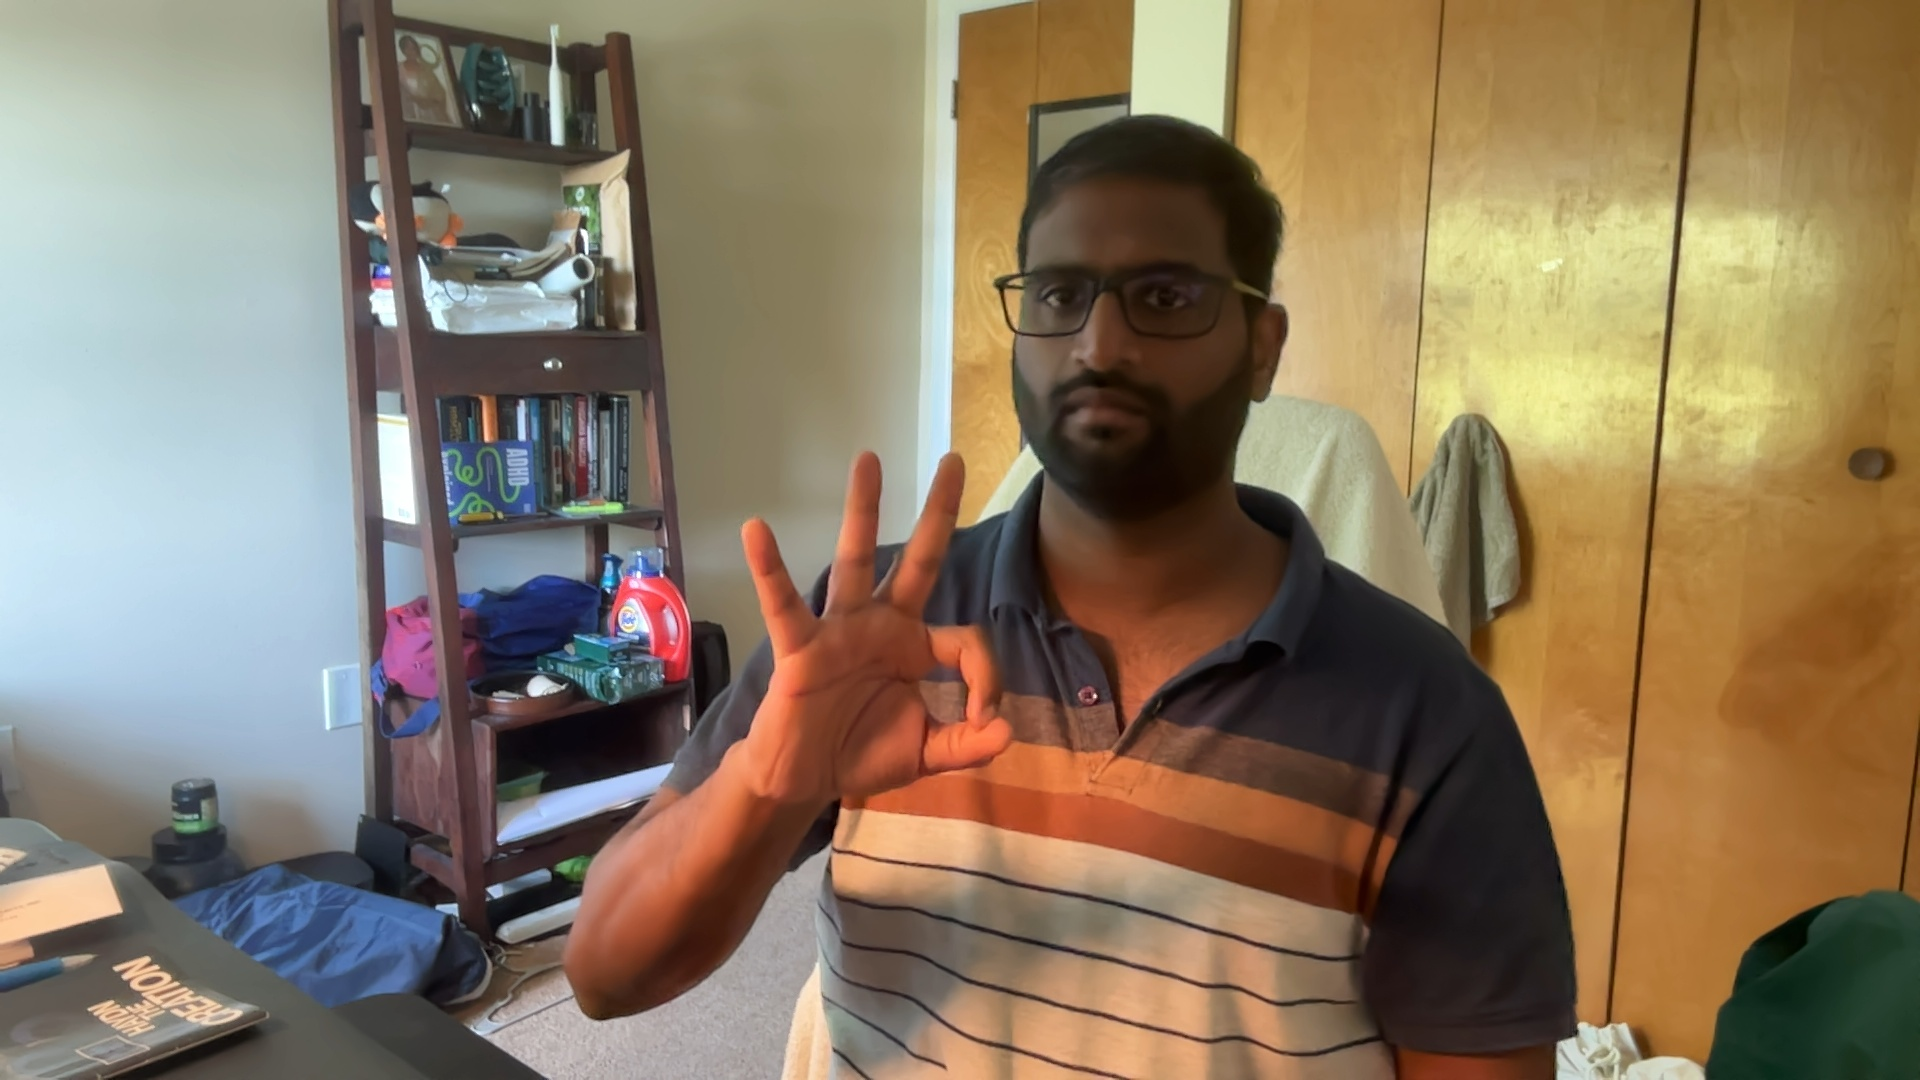OK: (744, 450, 1017, 804)
